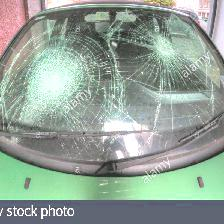glass_shatter: (8, 13, 216, 152)
